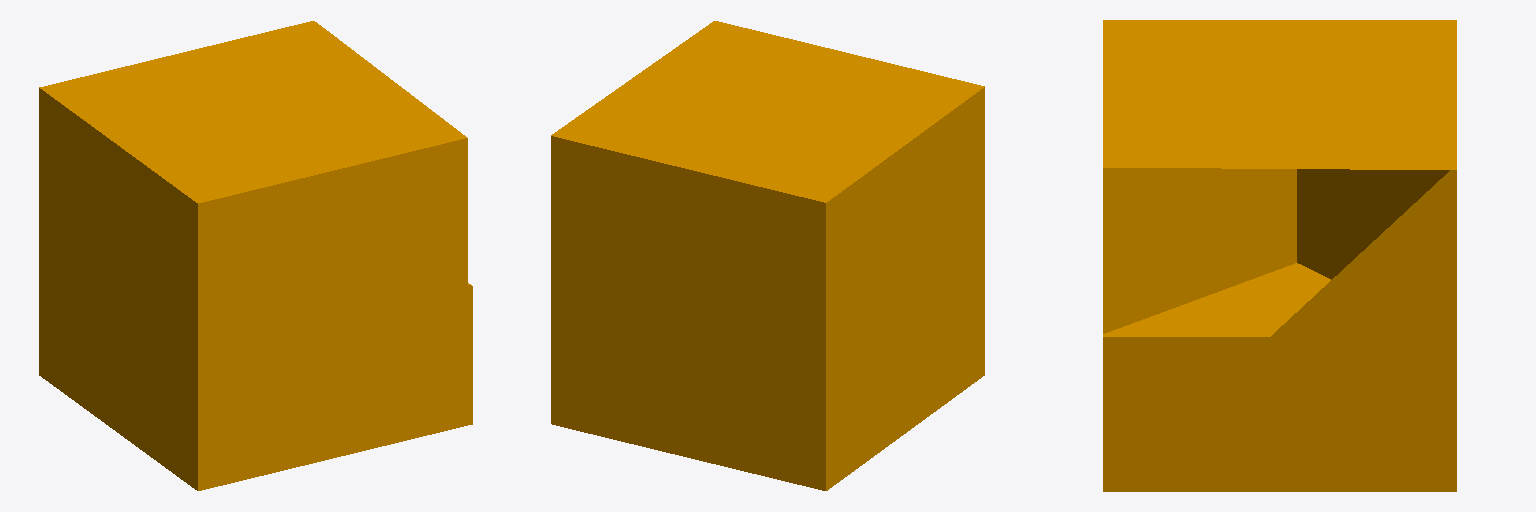
The robot description file, URDF, robot "object":
<?xml version="1.0"?>
<robot name="object">
  <link name="object">
    <visual>
      <origin xyz="0 0 0"/>
      <geometry>
        <mesh filename="meshes/set2/set_obj5_block.obj" scale=".03 .03 .03"/>
      </geometry>
    </visual>
    <collision>
  <origin xyz="0 0 0"/>
  <geometry>
    <mesh filename="meshes/set2/set_obj5_block_0decompose.obj" scale=".03 .03 .03"/>
<!--          <mesh filename="meshes/custom/obj0_ball.obj" scale=".05 .05 .05"/>-->
  </geometry>
</collision><collision>
  <origin xyz="0 0 0"/>
  <geometry>
    <mesh filename="meshes/set2/set_obj5_block_1decompose.obj" scale=".03 .03 .03"/>
<!--          <mesh filename="meshes/custom/obj0_ball.obj" scale=".05 .05 .05"/>-->
  </geometry>
</collision>

<!--    <collision>-->
<!--      <origin xyz="0 0 0"/>-->
<!--      <geometry>-->
<!--        <mesh filename="meshes/set2/set_obj5_block.obj" scale=".03 .03 .03"/>-->
<!--&lt;!&ndash;          <mesh filename="meshes/custom/obj0_ball.obj" scale=".05 .05 .05"/>&ndash;&gt;-->
<!--      </geometry>-->
<!--    </collision>-->
    <inertial>
      <density value="1000.0"/>
    </inertial>
  </link>
</robot>

--- Facts derived from the render (not from the file) ---
3 views of the same robot in one strip: view 1: azimuth 30°, elevation 25°; view 2: azimuth 150°, elevation 25°; view 3: azimuth 270°, elevation 25° (orthographic).
Robot: object — 1 links, 0 joints (none); root link object; default pose: every joint at zero.
Visible links, largest first — view 1: object; view 2: object; view 3: object.
Link boxes in pixels (<box>): object: <box>39,21,472,490</box>; object: <box>551,21,984,490</box>; object: <box>1103,20,1456,491</box>.
Size in the robot's own frame: 0.06 by 0.06 by 0.06 metres.
Meshes: 1 distinct files referenced, 1 mesh visuals loaded (1 OBJ).